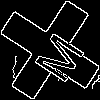M: (25, 25, 87, 85)
